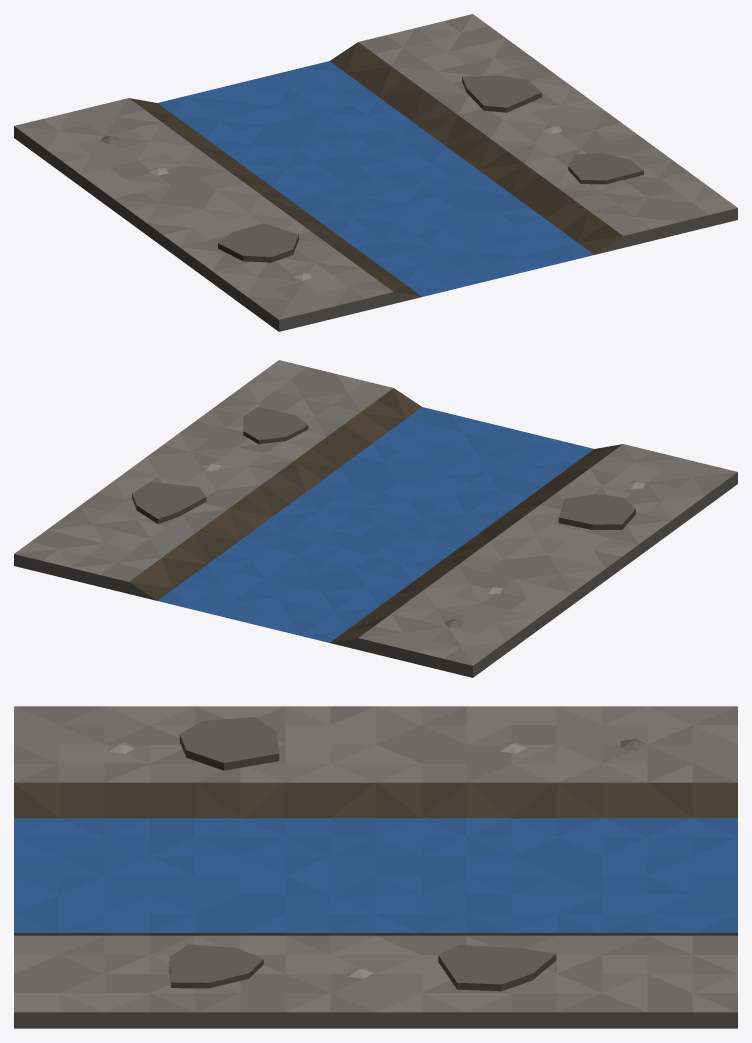
Rendered from river_straight_rock.glb.
3 views of the same model, one above another, from view 1: azimuth 30°, elevation 25°; view 2: azimuth 150°, elevation 25°; view 3: azimuth 270°, elevation 25° (orthographic). The views are drawn at different scales.
Parts seen in each view (by area): view 1: river_straight_rock; view 2: river_straight_rock; view 3: river_straight_rock.
Part boxes in pixels (x1=…): river_straight_rock: x1=14, y1=14, x2=737, y2=331; river_straight_rock: x1=14, y1=360, x2=737, y2=677; river_straight_rock: x1=14, y1=706, x2=737, y2=1028.
Bounding box in the file's own units: 4 × 0.146 × 4.
